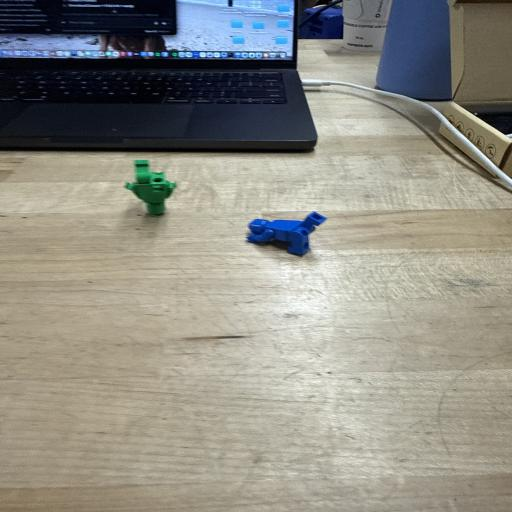blue-minifig: (247, 212, 326, 255)
green-minifig: (125, 160, 176, 215)
